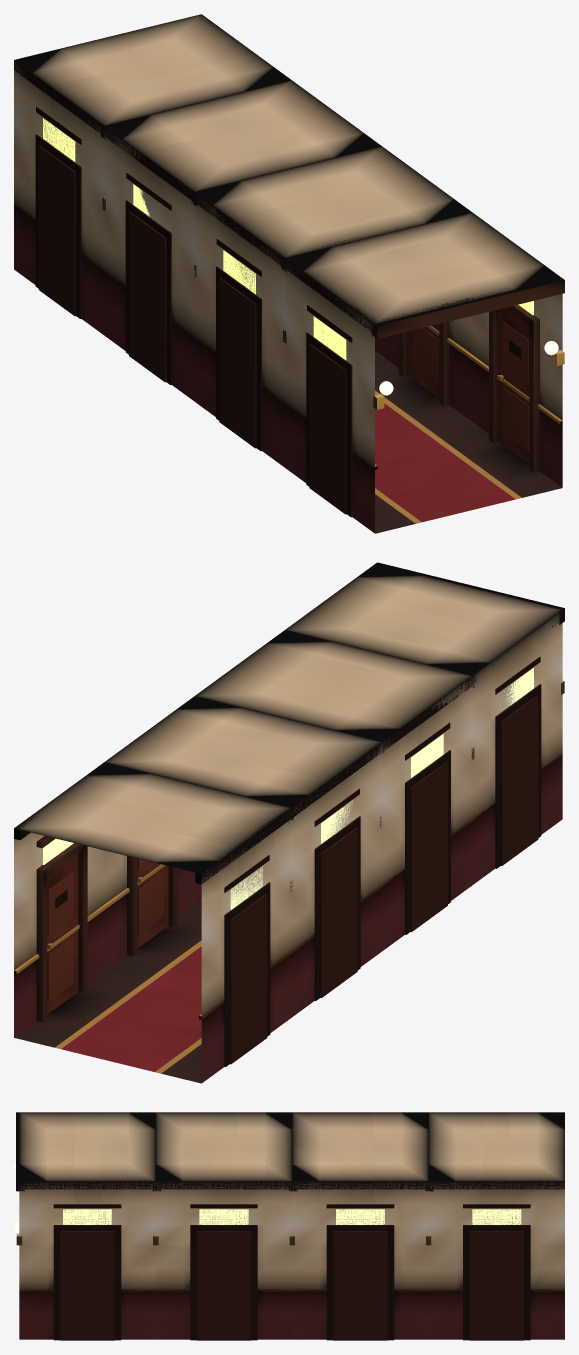
Rendered from hotel.glb.
The picture shows the model from 3 angles, top to bottom: view 1: azimuth 30°, elevation 25°; view 2: azimuth 150°, elevation 25°; view 3: azimuth 270°, elevation 25°; orthographic projection. The views are drawn at different scales.
Parts seen in each view (by area): view 1: ht_ceiling, ht_wall, ht_doors, ht_floor, ht_wainscot, ht_frames, ht_beams, ht_transoms, ht_brass; view 2: ht_ceiling, ht_wall, ht_doors, ht_floor, ht_wainscot, ht_frames, ht_beams, ht_transoms, ht_brass; view 3: ht_ceiling, ht_wall, ht_doors, ht_wainscot, ht_frames, ht_beams, ht_transoms, ht_brass.
Boxes of the visible parts, left/top/right/bottom form: ht_ceiling: left=14, top=14, right=562, bottom=323; ht_wall: left=14, top=60, right=562, bottom=467; ht_doors: left=38, top=145, right=529, bottom=514; ht_floor: left=375, top=351, right=562, bottom=533; ht_wainscot: left=14, top=204, right=562, bottom=533; ht_frames: left=35, top=106, right=539, bottom=517; ht_beams: left=14, top=14, right=564, bottom=338; ht_transoms: left=43, top=118, right=533, bottom=360; ht_brass: left=14, top=203, right=562, bottom=469; ht_ceiling: left=16, top=564, right=562, bottom=873; ht_wall: left=14, top=612, right=562, bottom=1015; ht_doors: left=47, top=695, right=538, bottom=1064; ht_floor: left=14, top=900, right=201, bottom=1083; ht_wainscot: left=14, top=754, right=562, bottom=1082; ht_frames: left=36, top=656, right=541, bottom=1066; ht_beams: left=14, top=562, right=564, bottom=884; ht_transoms: left=43, top=668, right=533, bottom=909; ht_brass: left=14, top=752, right=562, bottom=1019; ht_ceiling: left=19, top=1112, right=564, bottom=1181; ht_wall: left=19, top=1181, right=564, bottom=1290; ht_doors: left=60, top=1231, right=523, bottom=1340; ht_wainscot: left=19, top=1290, right=564, bottom=1339; ht_frames: left=53, top=1204, right=530, bottom=1340; ht_beams: left=16, top=1112, right=564, bottom=1191; ht_transoms: left=63, top=1209, right=521, bottom=1224; ht_brass: left=19, top=1289, right=564, bottom=1291.
Size of the model in its own units: 3.08 by 3.2 by 10.1.
